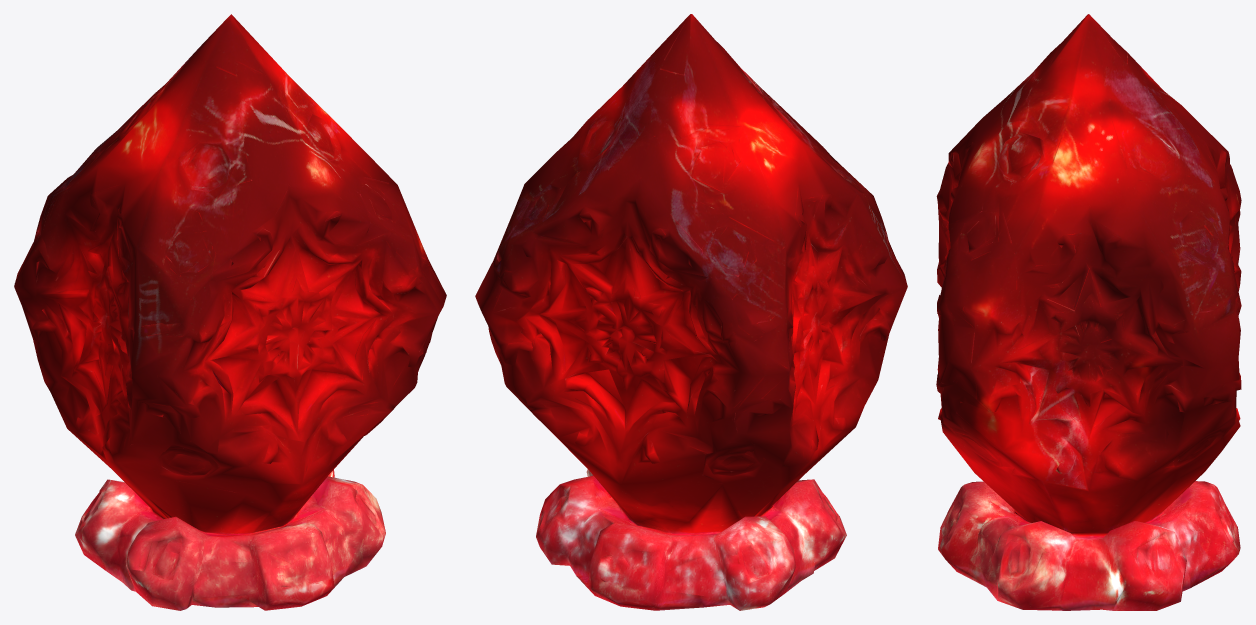
The model's file is Meshy_AI_Make_an_enchantment_C_0530144750_texture.glb.
3 views of the same model, side by side, from view 1: azimuth 30°, elevation 25°; view 2: azimuth 150°, elevation 25°; view 3: azimuth 270°, elevation 25° (orthographic).
Visible parts, largest first — view 1: Mesh_0; view 2: Mesh_0; view 3: Mesh_0.
Boxes of the visible parts, bbox=[...] form: Mesh_0: bbox=[14, 14, 446, 610]; Mesh_0: bbox=[475, 14, 907, 610]; Mesh_0: bbox=[936, 14, 1241, 610].
Bounding box in the file's own units: 1.16 × 1.91 × 0.9727.
1 material, 1 textured.
